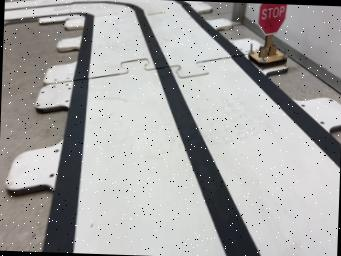stop: (248, 3, 287, 68), (248, 3, 287, 68), (248, 3, 287, 68), (248, 3, 287, 68), (248, 3, 287, 68), (248, 3, 287, 68)
street: (47, 0, 341, 256), (47, 0, 341, 256), (47, 0, 341, 256), (47, 0, 341, 256), (47, 0, 341, 256), (47, 0, 341, 256)
